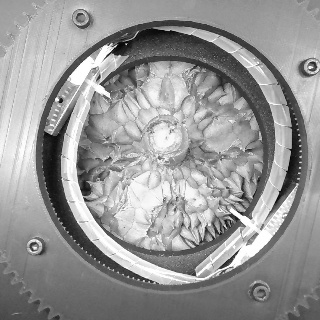base: (140, 114, 195, 169)
end: (147, 119, 183, 154)
